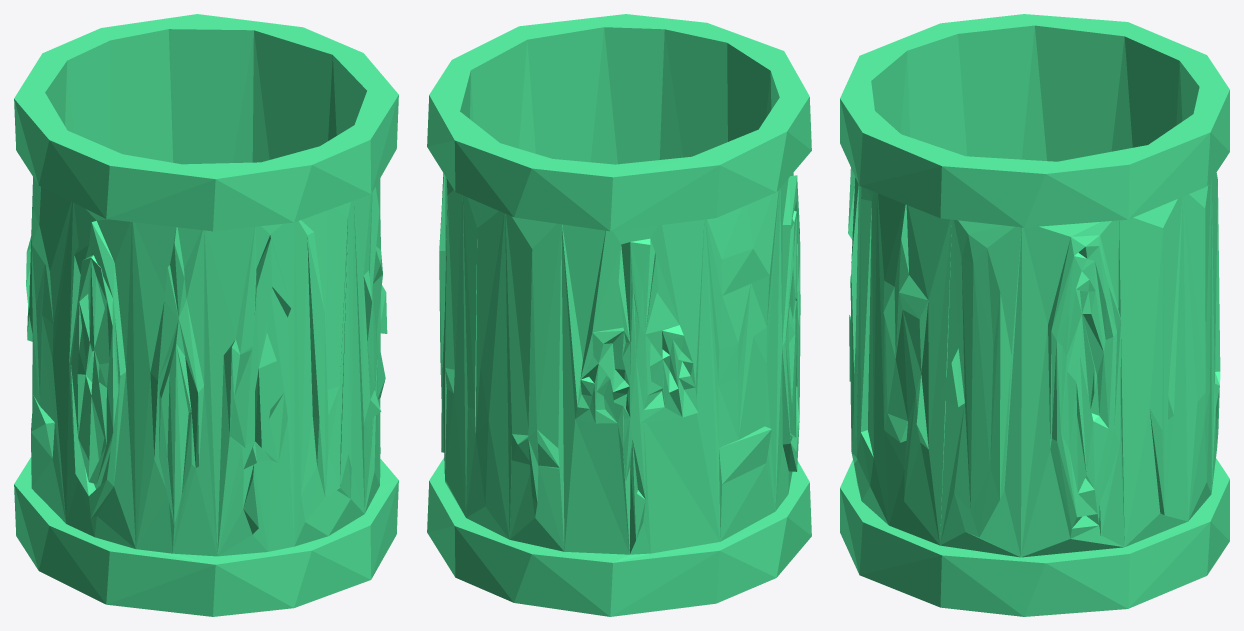
File: ring.fbx
3 views of the same model, side by side, from view 1: azimuth 30°, elevation 25°; view 2: azimuth 150°, elevation 25°; view 3: azimuth 270°, elevation 25° (orthographic).
Parts seen in each view (by area): view 1: 0ring; view 2: 0ring; view 3: 0ring.
Part boxes in pixels (left/top/right/bottom): 0ring: left=14, top=14, right=398, bottom=616; 0ring: left=427, top=14, right=811, bottom=616; 0ring: left=840, top=14, right=1229, bottom=616.
Size of the model in its own units: 155 by 200 by 160.
